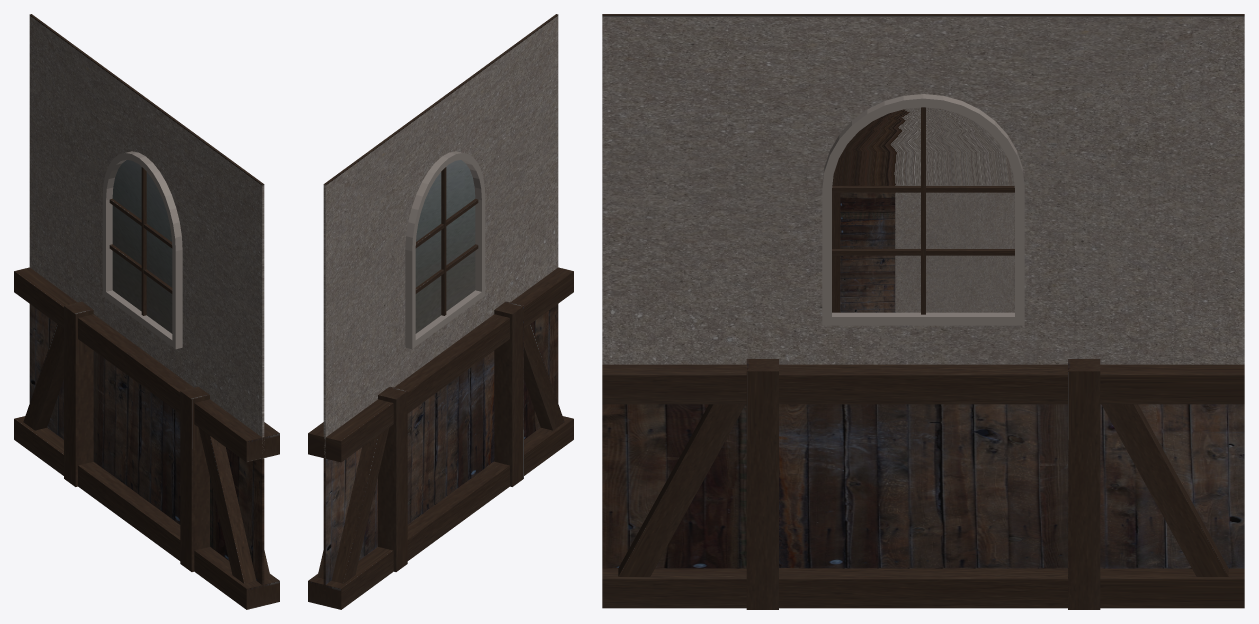
File: OutdoorArchitecture_BasicWall04_Window01_NoEdges_BShortt.fbx
The picture shows the model from 3 angles, left to right: view 1: azimuth 30°, elevation 25°; view 2: azimuth 150°, elevation 25°; view 3: azimuth 270°, elevation 25°; orthographic projection. The views are drawn at different scales.
Parts seen in each view (by area): view 1: OutdoorArchitecture_BasicWall04_Window01_NoEdges_BShortt; view 2: OutdoorArchitecture_BasicWall04_Window01_NoEdges_BShortt; view 3: OutdoorArchitecture_BasicWall04_Window01_NoEdges_BShortt.
Part boxes in pixels (<box>): OutdoorArchitecture_BasicWall04_Window01_NoEdges_BShortt: <box>14,14,279,609</box>; OutdoorArchitecture_BasicWall04_Window01_NoEdges_BShortt: <box>308,14,573,609</box>; OutdoorArchitecture_BasicWall04_Window01_NoEdges_BShortt: <box>602,14,1244,609</box>.
Size of the model in its own units: 28.5 by 300 by 300.
